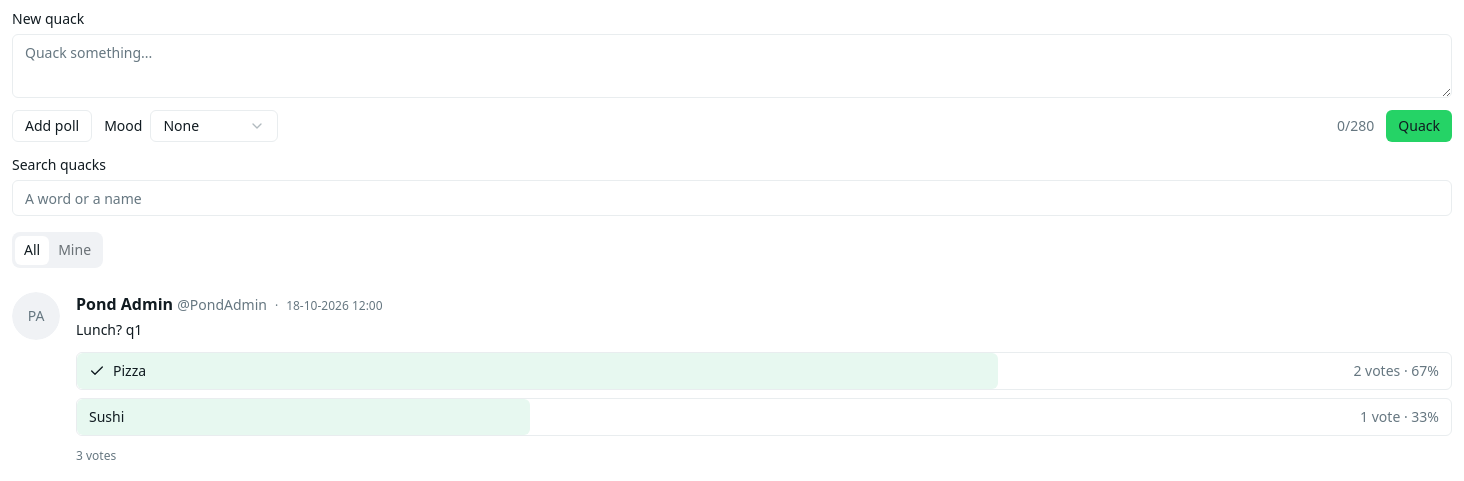
Test: voting › moves a vote without changing the total (C2)
This screenshot has width=1464, height=481.
Expected: the button "Pizza 2 votes · 67%" is shown, [76,352,1452,390]
Click the button "Sushi 1 vote · 33%". click: [304, 417]
box: [76,398,1452,436]
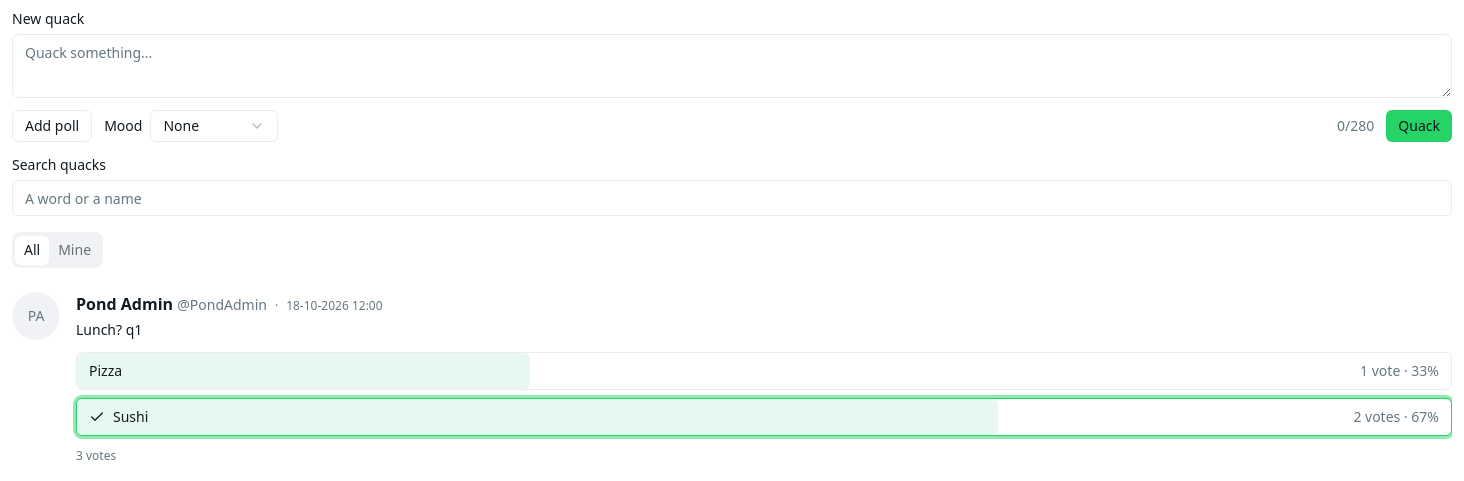
Expected: the text "3 votes" is shown, [76,448,116,464]
Expected: the button "Pizza 1 vote · 33%" is shown, [76,352,1452,390]
Expected: the button "Sushi 2 votes · 67%" is shown, [76,398,1452,436]
